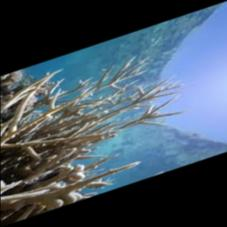bleached_corals: (1, 59, 179, 226)
